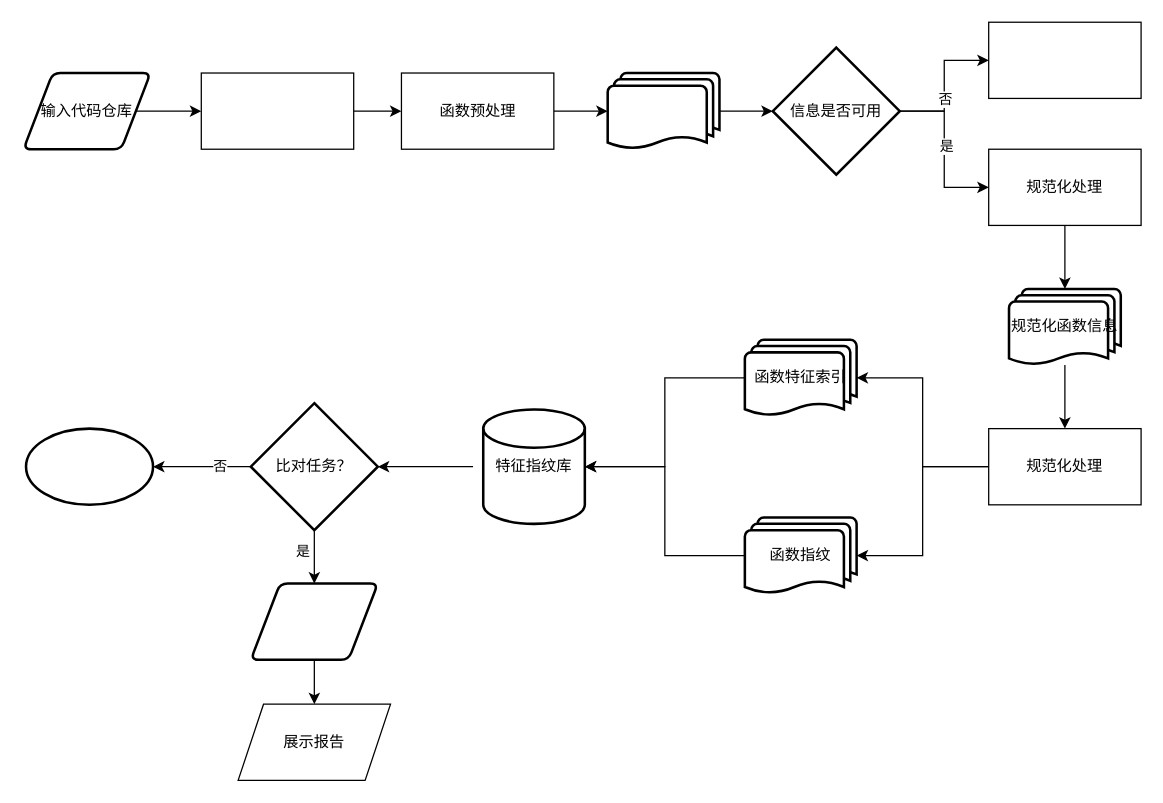
The diagram is 1163 pixels wide and 803 high, and some of its shapes have lost their labels. The centre of each missing label's shape, as x and y in pixels:
"丢弃" belongs at pixel 1064 59.
"函数原始信息" belongs at pixel 663 110.
"相似计算" belongs at pixel 313 621.
"结束" belongs at pixel 89 466.
"编程语言识别" belongs at pixel 277 110.
